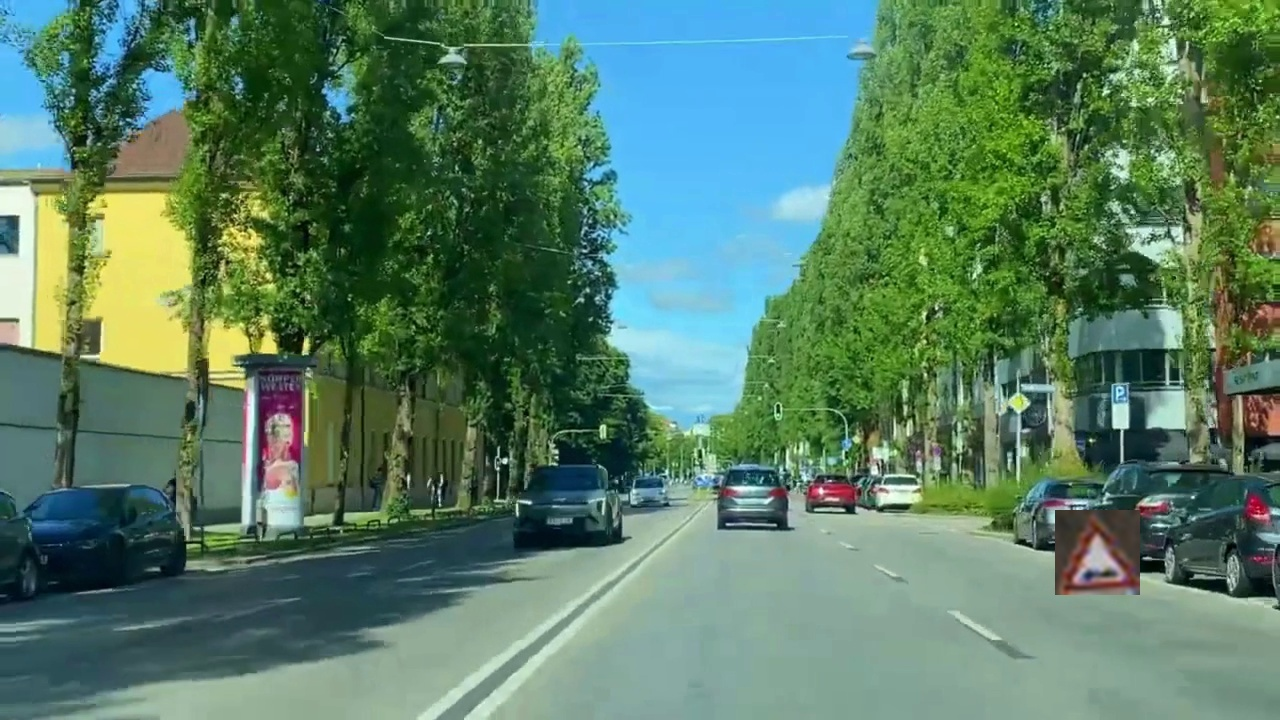Bumpy road: (1055, 510, 1140, 595)
